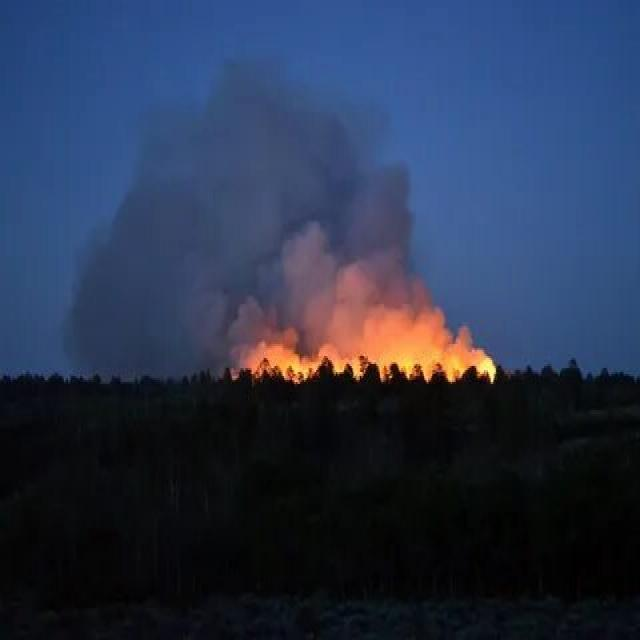Fire: (222, 308, 503, 415)
Smoke: (35, 0, 450, 341)
